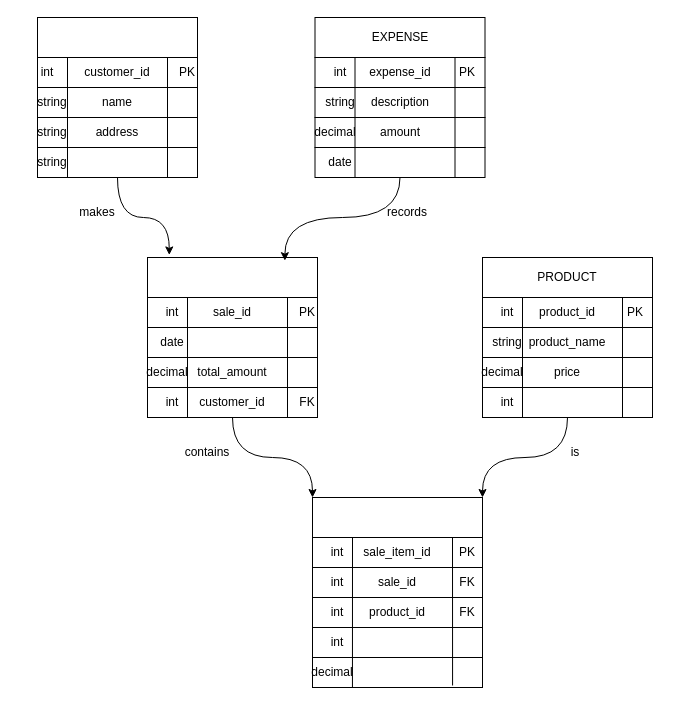
This 682x706 diagram has some shape labels left out. Each missing label, with the box of its shape:
COSTUMER: (36, 16, 198, 58)
expense_date: (314, 146, 485, 178)
phone: (36, 146, 198, 178)
quantity: (312, 626, 482, 658)
SALE: (146, 256, 318, 298)
sale_date: (146, 326, 318, 358)
SALE_ITEM: (312, 496, 482, 538)
stock_quantity: (482, 386, 652, 418)
subtotal: (312, 656, 482, 688)
